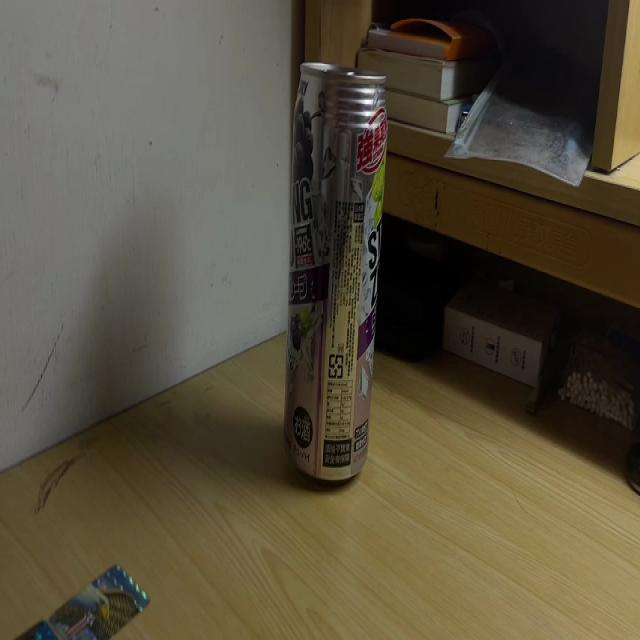Liquor: (282, 64, 389, 488)
